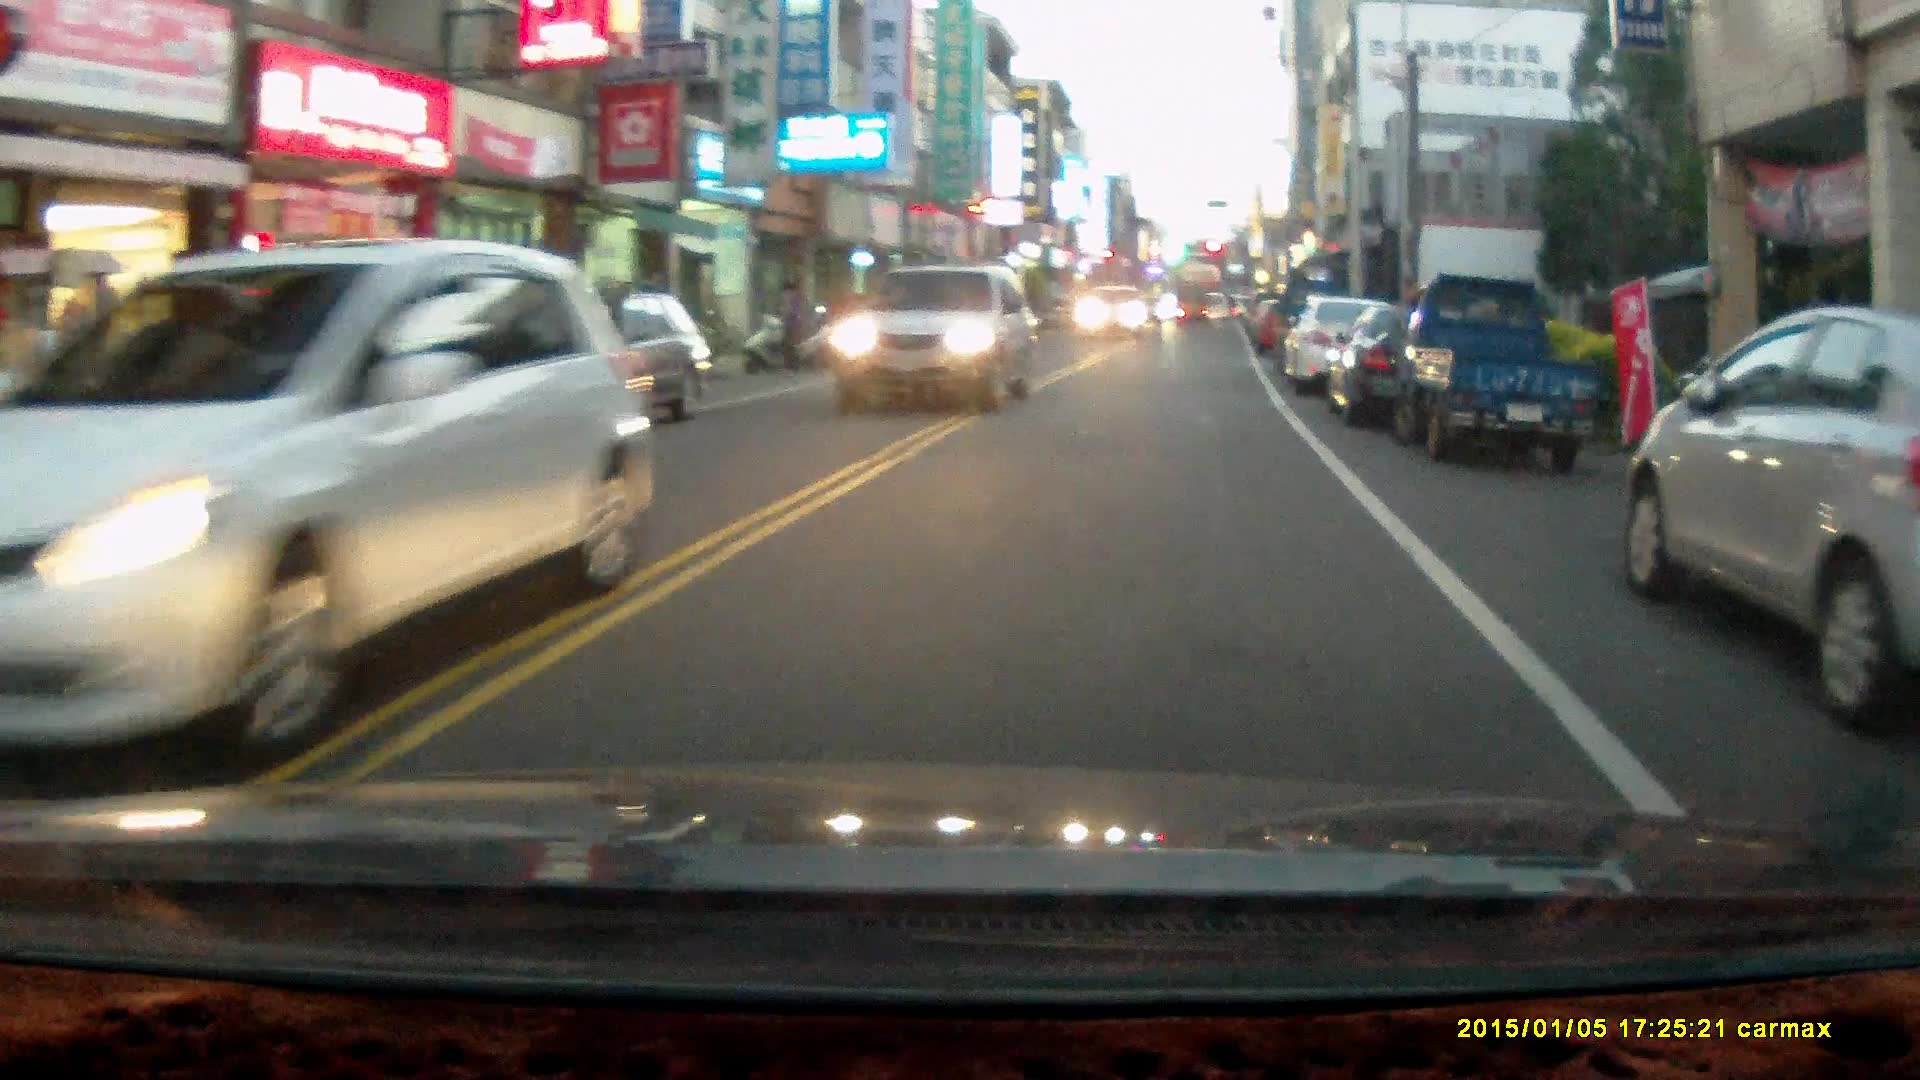pedestrian: (780, 283, 807, 375)
vehicle: (3, 242, 654, 792), (1615, 308, 1920, 710), (1389, 272, 1612, 476), (450, 297, 707, 451), (824, 270, 1037, 421), (1324, 297, 1525, 433), (1277, 293, 1431, 402), (1077, 286, 1158, 347)
